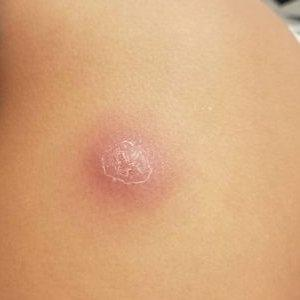Mosquito: (90, 125, 162, 201)
